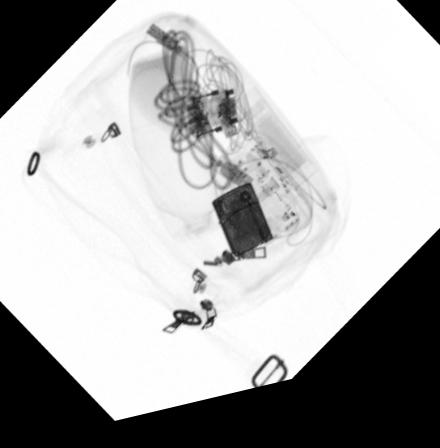Lighter: (212, 193, 274, 268)
